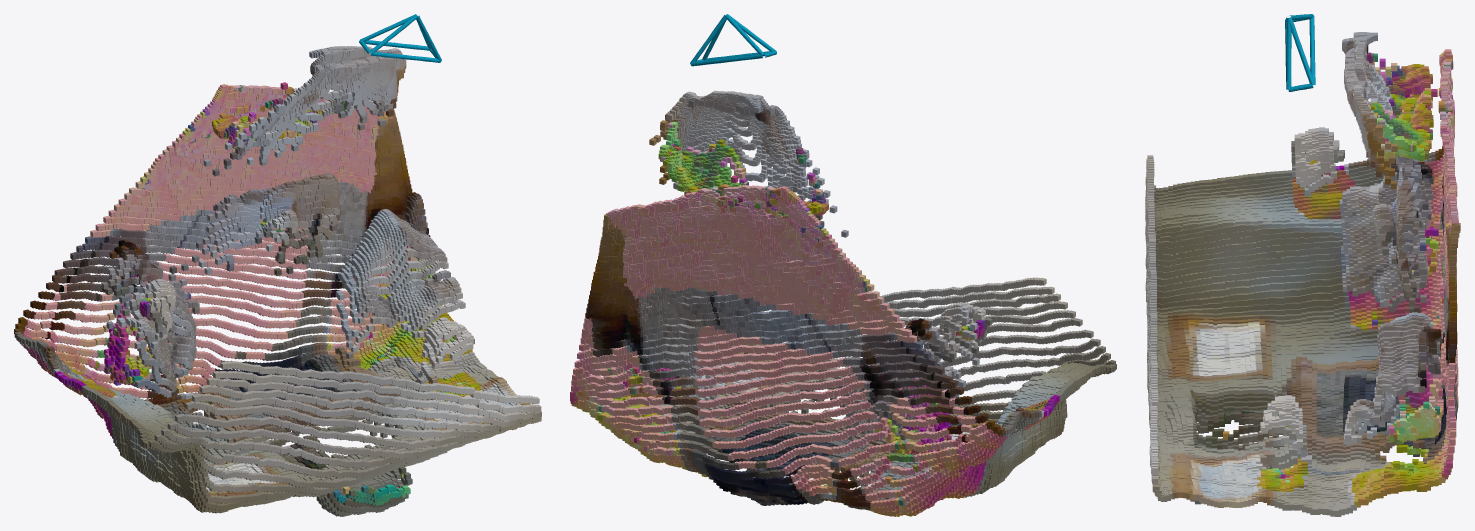
The model's file is pred_0-compressed.glb.
The picture shows the model from 3 angles, left to right: view 1: azimuth 30°, elevation 25°; view 2: azimuth 150°, elevation 25°; view 3: azimuth 270°, elevation 25°; orthographic projection. The views are drawn at different scales.
Size of the model in its own units: 4.58 by 4.62 by 2.53.
